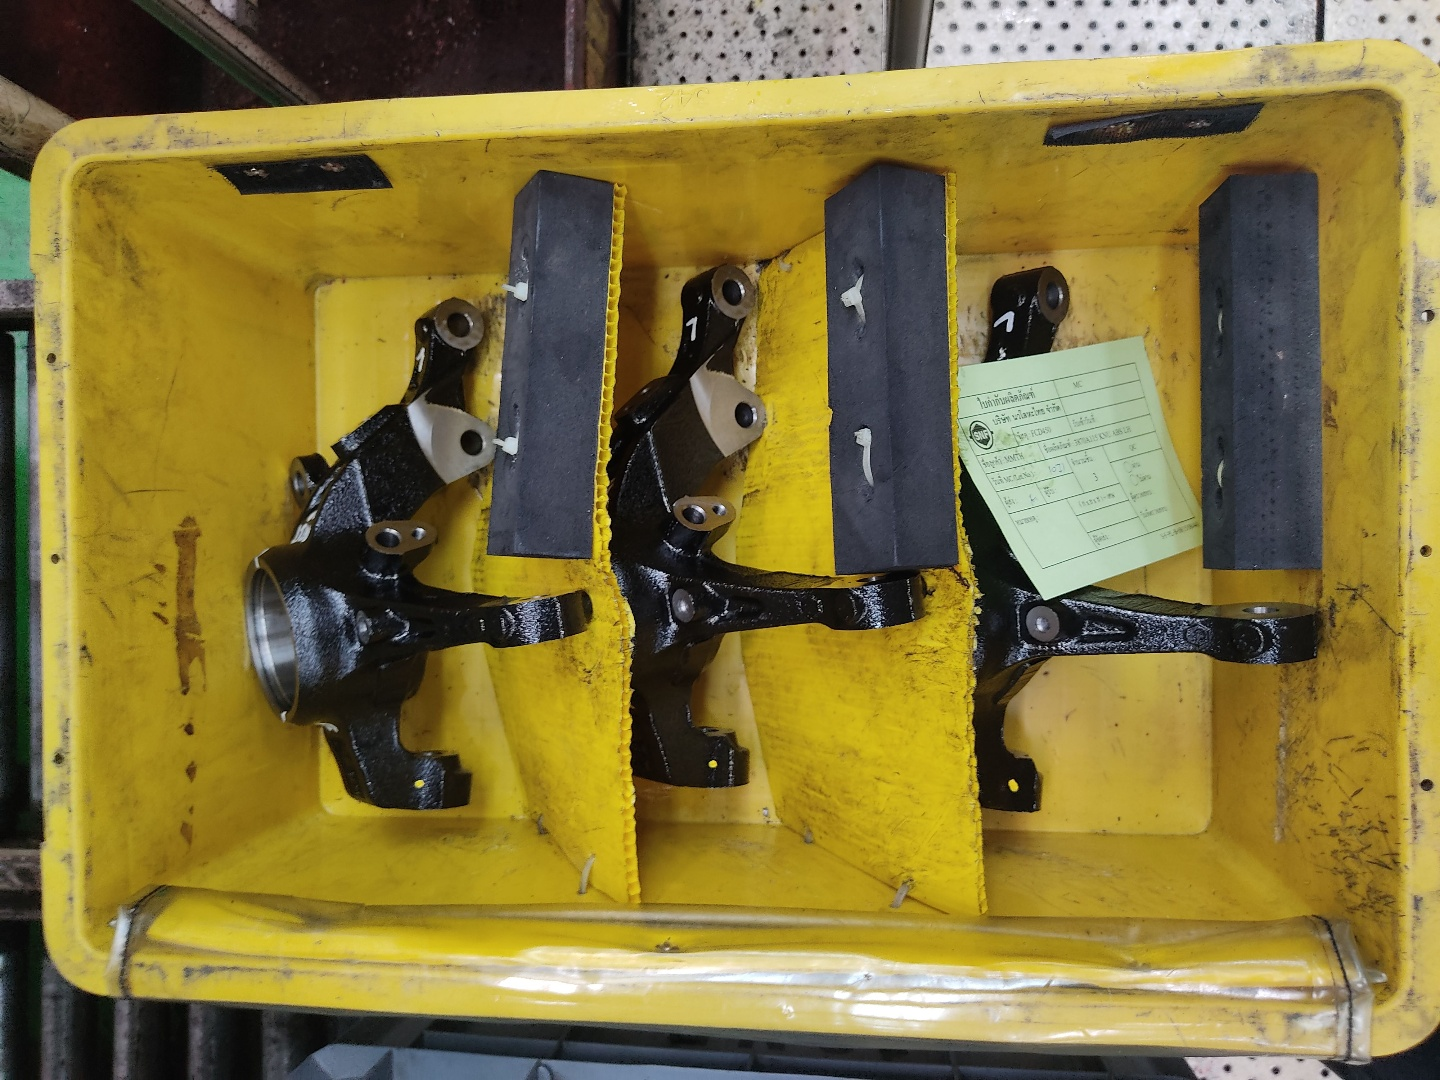abs-lh: (956, 259, 1336, 820), (232, 293, 600, 828), (604, 258, 937, 802)
